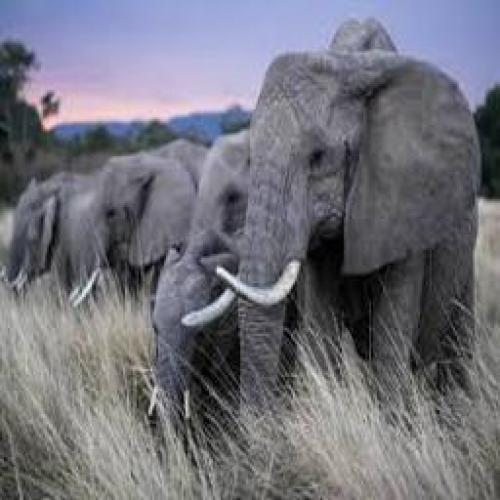african_elephant-endangered: (181, 20, 480, 469), (148, 131, 245, 442), (62, 139, 210, 324), (3, 168, 68, 322)
